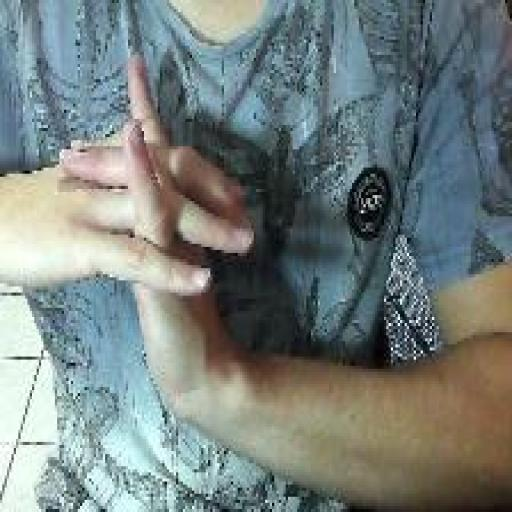Ushi -ox-: (58, 49, 257, 433)
